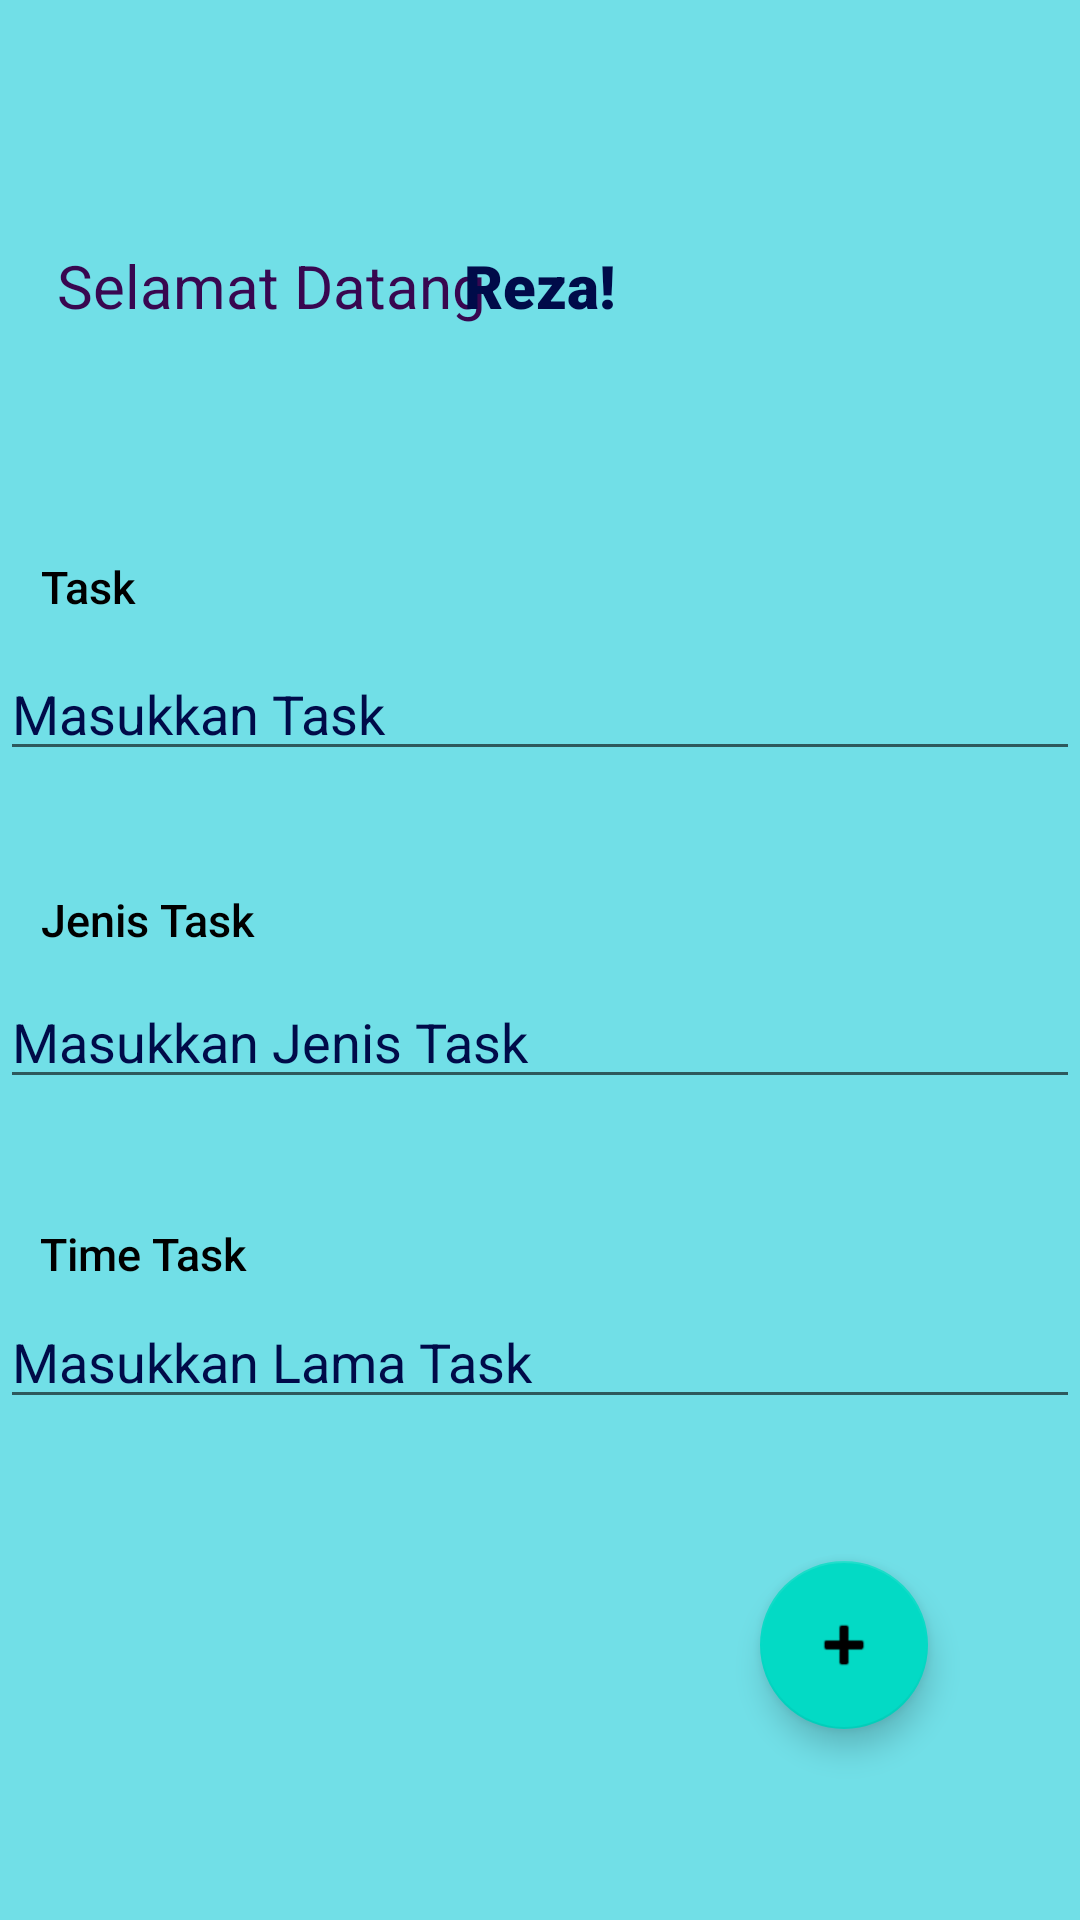

Where icons sit on this 1080px x 1920px app screen, as detection(x1, y1, x2, y2):
add: detection(760, 1561, 928, 1729)
